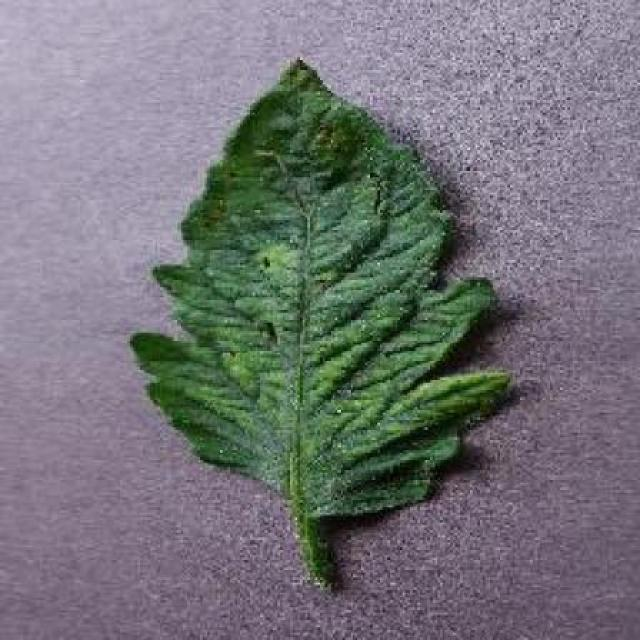Mosaic Virus: (128, 56, 518, 518)
